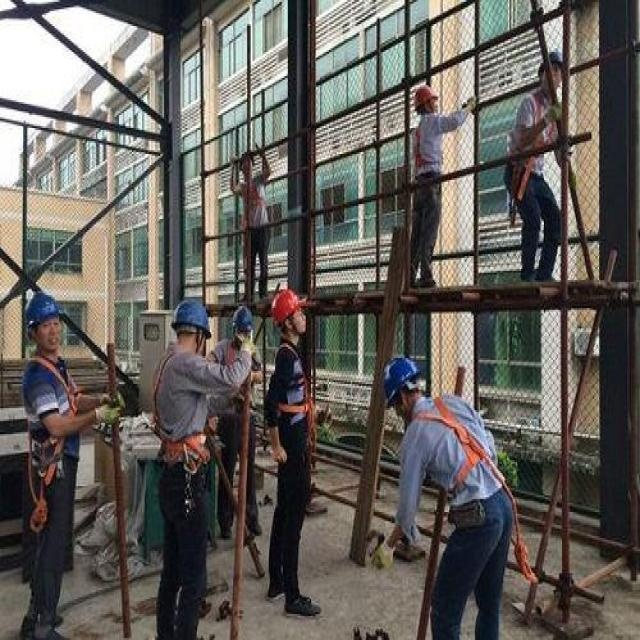Arnes_seguridad: (411, 388, 495, 490), (148, 344, 214, 470), (22, 353, 83, 483), (269, 336, 317, 429)
